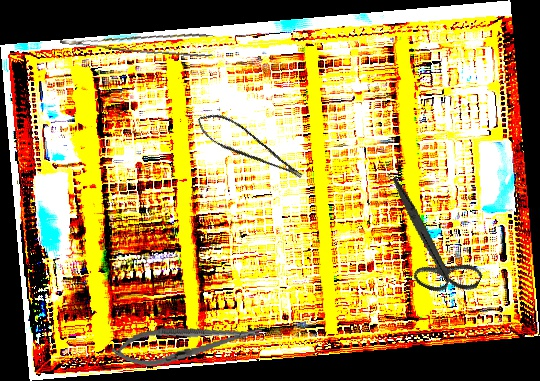Iris Scissors: (355, 176, 505, 309)
Micro Scissor: (192, 102, 306, 197)
Needle Holder: (110, 313, 265, 373)
Tissue Forceps: (59, 14, 216, 65)
